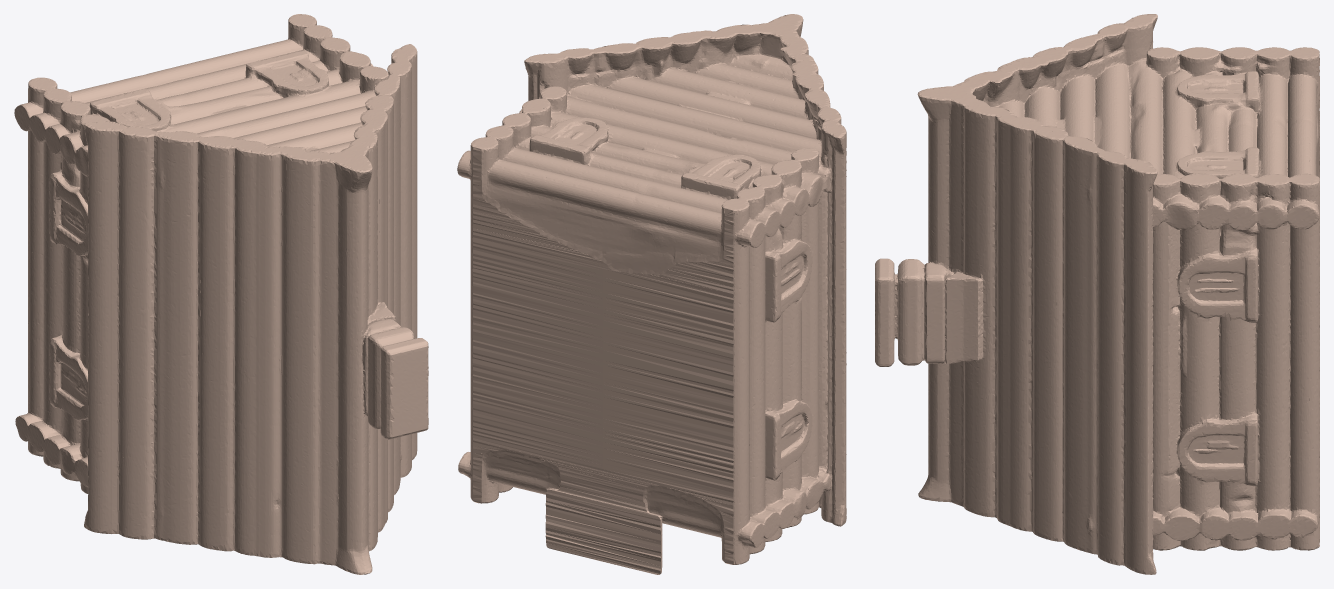
The model's file is casa-chale.glb.
3 renders of one model, left to right at view 1: azimuth 30°, elevation 25°; view 2: azimuth 150°, elevation 25°; view 3: azimuth 270°, elevation 25°, orthographic. The views are drawn at different scales.
Visible parts, largest first — view 1: casa-chale.glb; view 2: casa-chale.glb; view 3: casa-chale.glb.
Part boxes in pixels (left/top/right/bottom): casa-chale.glb: left=14, top=14, right=428, bottom=574; casa-chale.glb: left=457, top=14, right=846, bottom=574; casa-chale.glb: left=875, top=14, right=1319, bottom=574.
Bounding box in the file's own units: 33.99 × 41.55 × 40.
